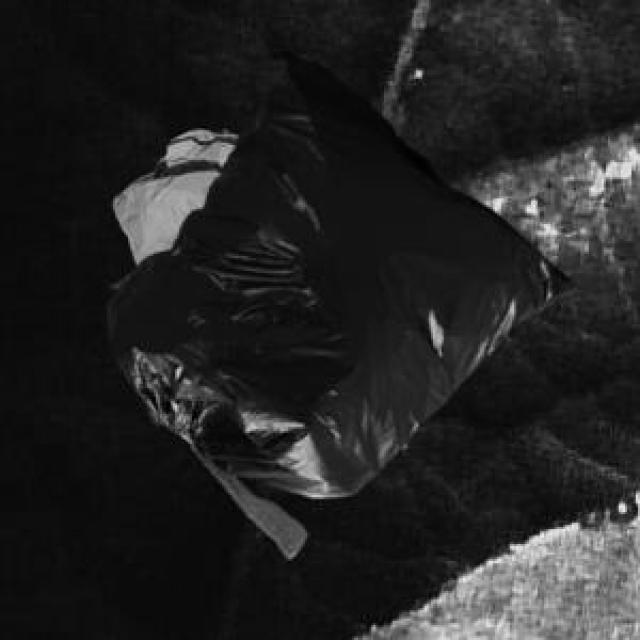miscellaneous trash: (105, 24, 576, 555), (107, 273, 124, 288)
paper: (109, 126, 234, 260)
